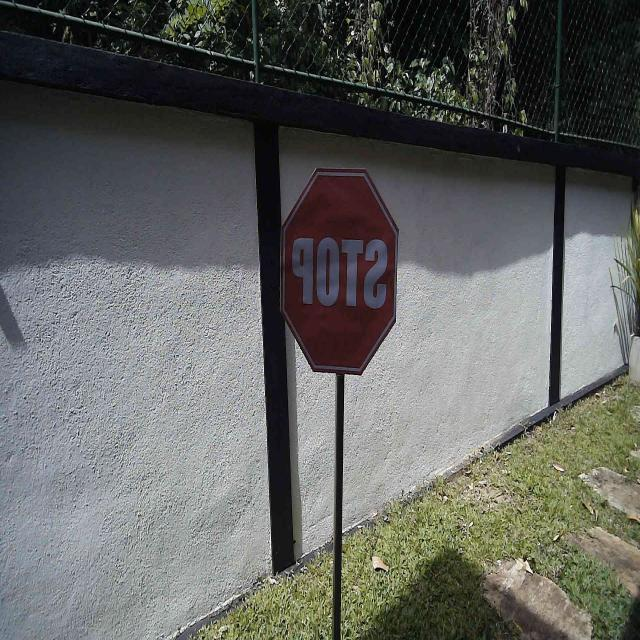stop: (278, 162, 400, 378)
